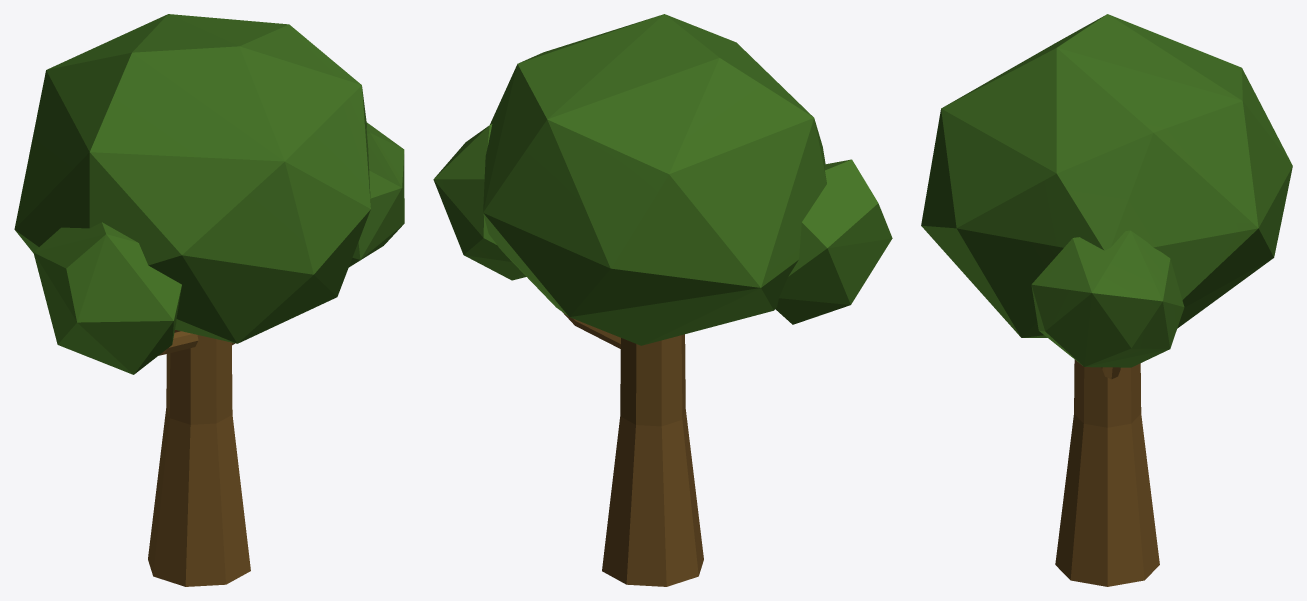
The model's file is oak_mdeium.fbx.
3 renders of one model, left to right at view 1: azimuth 30°, elevation 25°; view 2: azimuth 150°, elevation 25°; view 3: azimuth 270°, elevation 25°, orthographic.
Parts seen in each view (by area): view 1: oak_medium; view 2: oak_medium; view 3: oak_medium.
Part boxes in pixels (box(x1,y1,x2,y2)): oak_medium: box(14, 14, 404, 586); oak_medium: box(433, 14, 892, 586); oak_medium: box(921, 14, 1292, 586).
Bounding box in the file's own units: 4.08 × 5.5 × 3.54.
